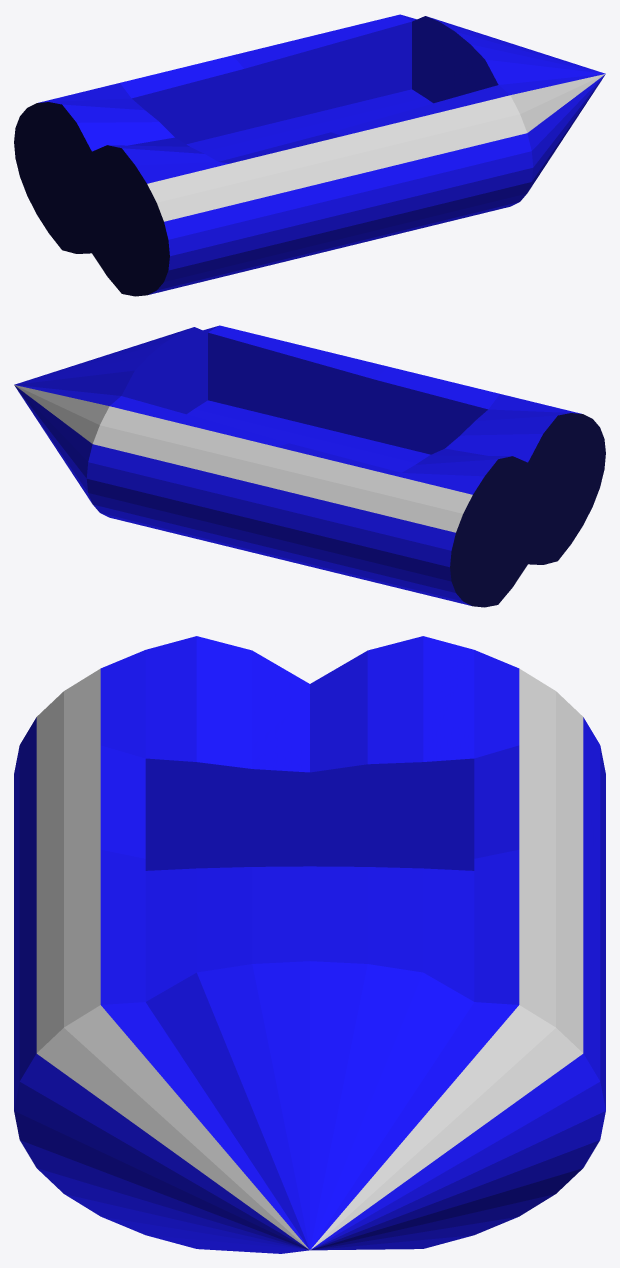
File: fcfblue.glb
3 renders of one model, top to bottom at view 1: azimuth 30°, elevation 25°; view 2: azimuth 150°, elevation 25°; view 3: azimuth 270°, elevation 25°, orthographic. The views are drawn at different scales.
Parts seen in each view (by area): view 1: gltf; view 2: gltf; view 3: gltf.
Part boxes in pixels (x1,y1,x2,y2): gltf: (14,14,605,296); gltf: (14,325,605,607); gltf: (14,636,605,1253).
Bounding box in the file's own units: 6.82 × 1.92 × 3.59.
